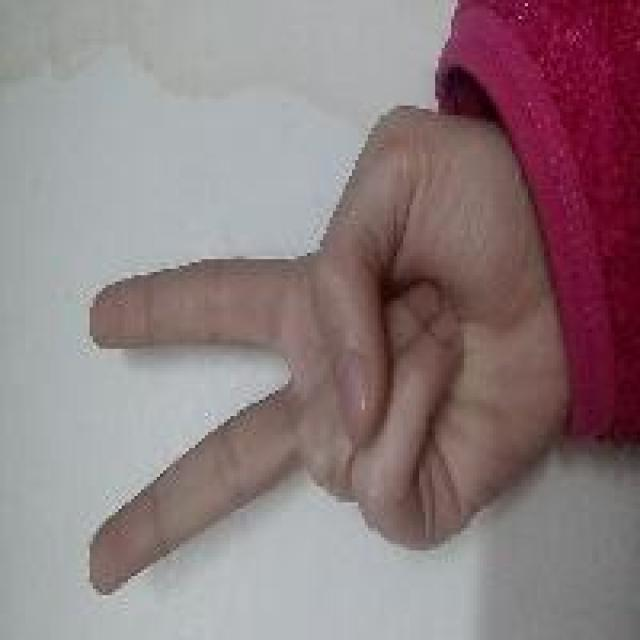V: (44, 83, 542, 554)
